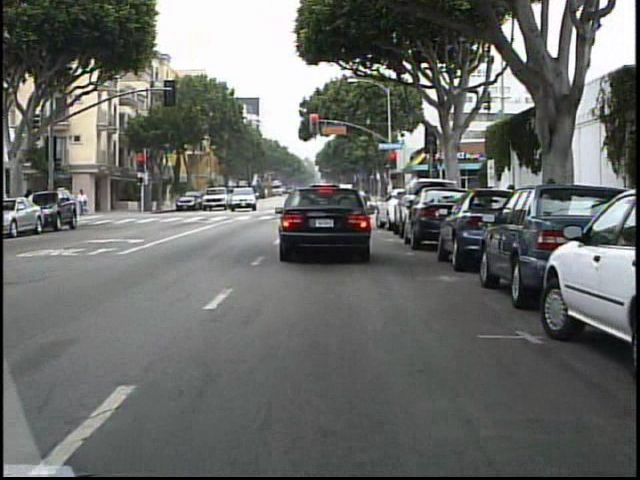person: (80, 187, 94, 219), (79, 188, 90, 218)
